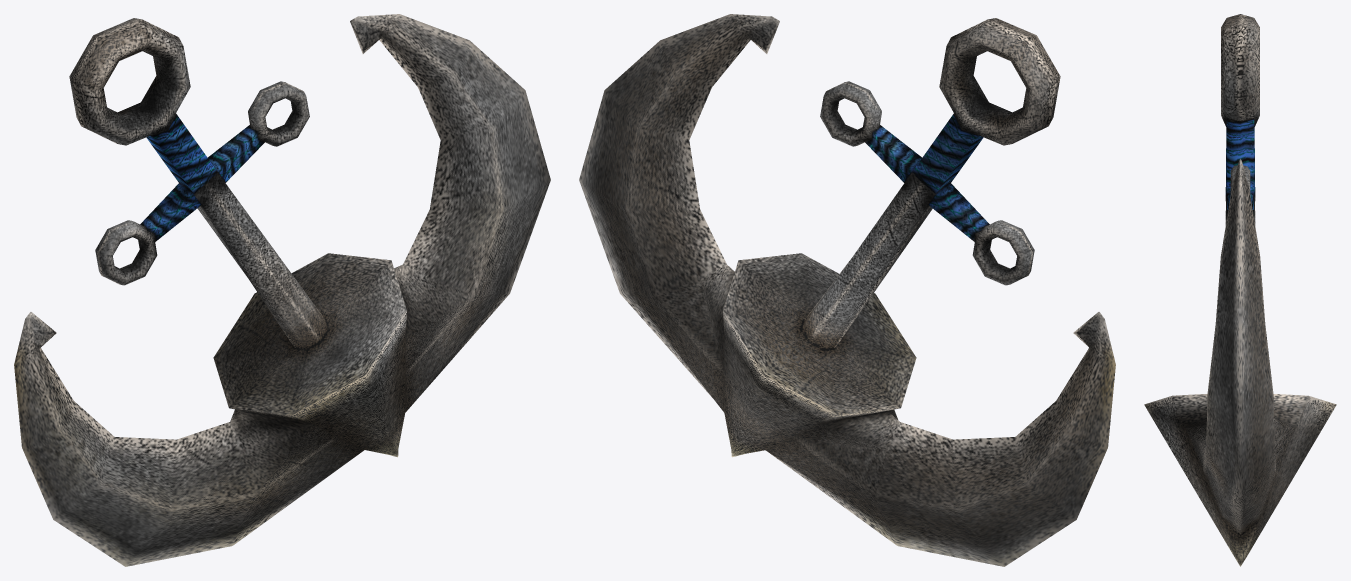
Rendered from BACK_ANCHOR.fbx.
3 views of the same model, side by side, from view 1: azimuth 30°, elevation 25°; view 2: azimuth 150°, elevation 25°; view 3: azimuth 270°, elevation 25° (orthographic). The views are drawn at different scales.
Parts seen in each view (by area): view 1: BACK_ANCHOR; view 2: BACK_ANCHOR; view 3: BACK_ANCHOR.
Boxes of the visible parts, x1=… form: BACK_ANCHOR: x1=14, y1=14, x2=550, y2=566; BACK_ANCHOR: x1=579, y1=14, x2=1115, y2=566; BACK_ANCHOR: x1=1144, y1=14, x2=1336, y2=566.
Bounding box in the file's own units: 0.0779 × 0.076 × 0.028.
